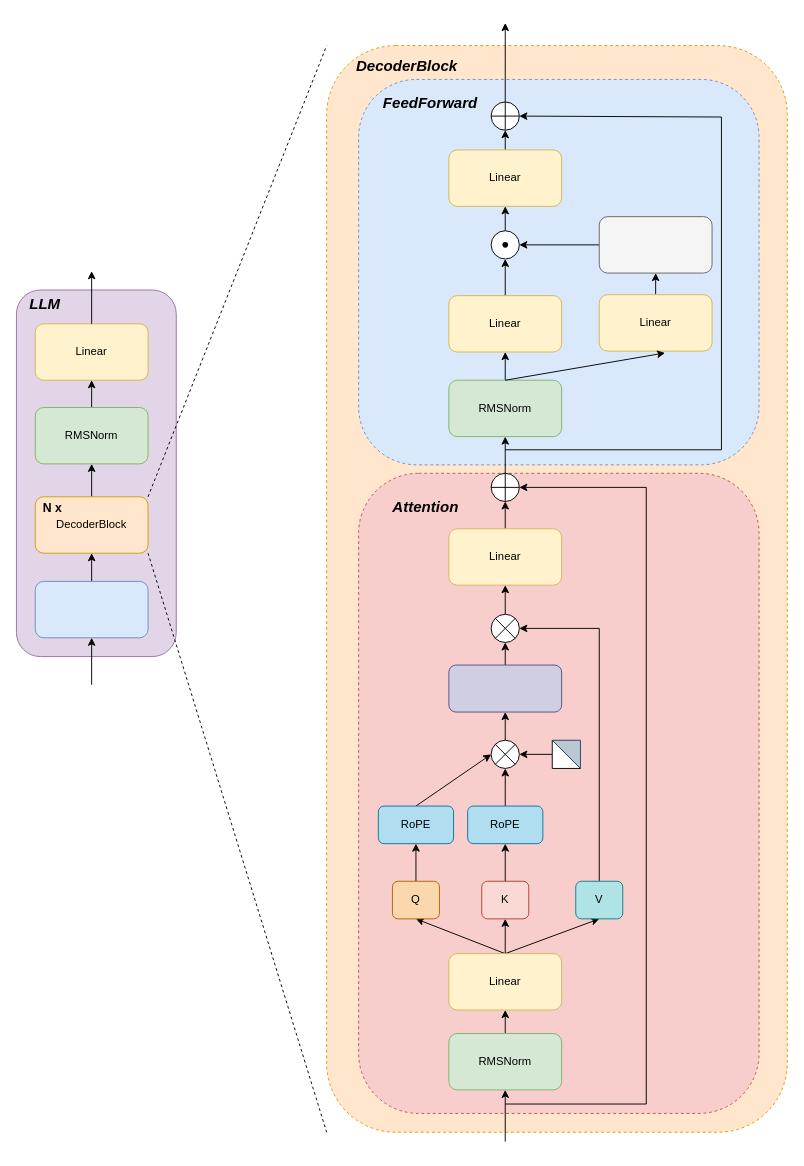
Image size: 804x1166. Some labels were removed from this diagram. Here are the shapes that lost their labels. From the top down, the centre of each, then its label:
At (655,244): "SiLU".
At (91,609): "Embedding".
At (505,688): "SoftMax".
